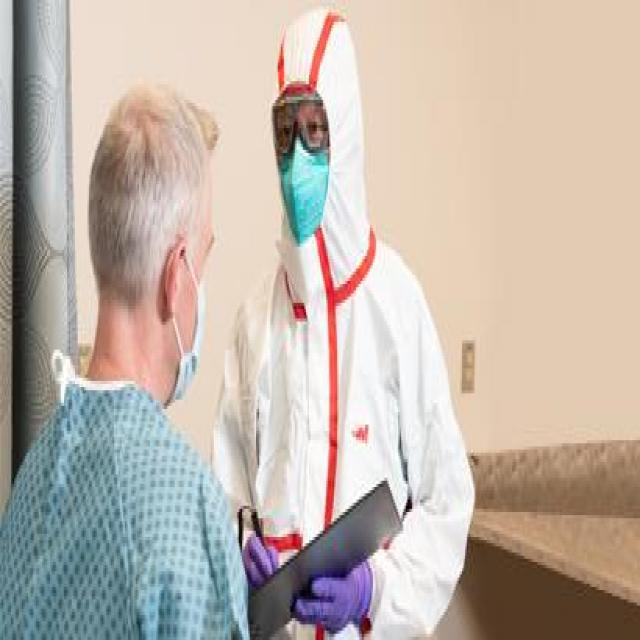Gloves: (292, 558, 371, 630), (242, 531, 278, 584)
Goggles: (268, 87, 329, 153)
